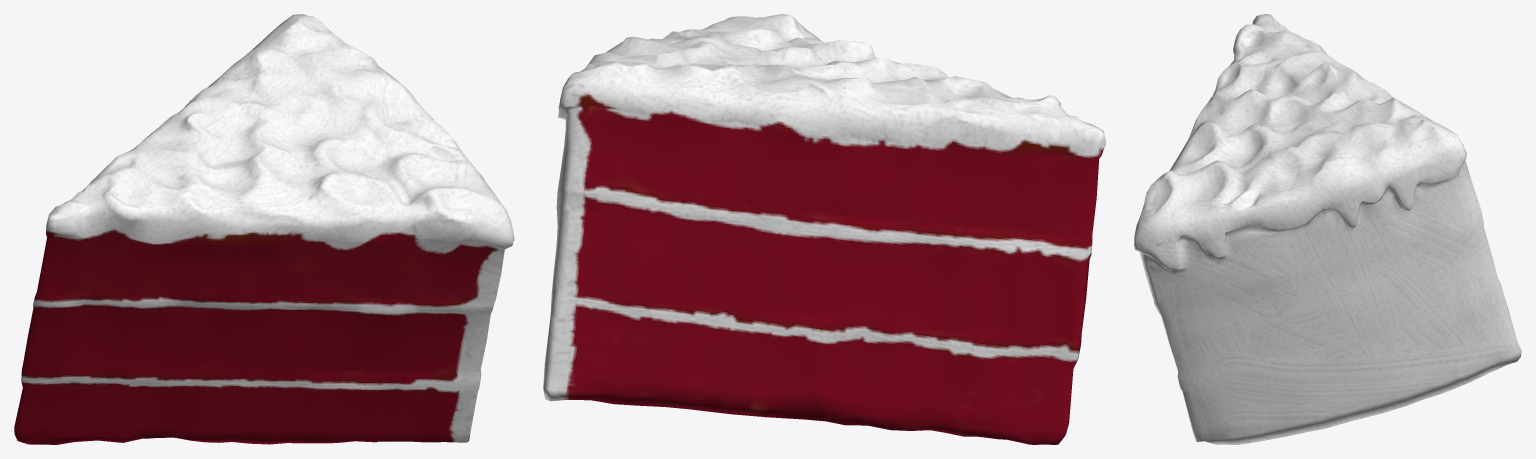
Rendered from red_velvet.glb.
3 views of the same model, side by side, from view 1: azimuth 30°, elevation 25°; view 2: azimuth 150°, elevation 25°; view 3: azimuth 270°, elevation 25° (orthographic). The views are drawn at different scales.
Visible parts, largest first — view 1: node_id30_1; view 2: node_id30_1; view 3: node_id30_1.
Boxes of the visible parts, x1=… form: node_id30_1: x1=14, y1=14, x2=514, y2=444; node_id30_1: x1=543, y1=14, x2=1105, y2=444; node_id30_1: x1=1134, y1=14, x2=1521, y2=444.
Bounding box in the file's own units: 0.6296 × 0.497 × 0.5738.
Materials: 1 (1 with a texture image).
